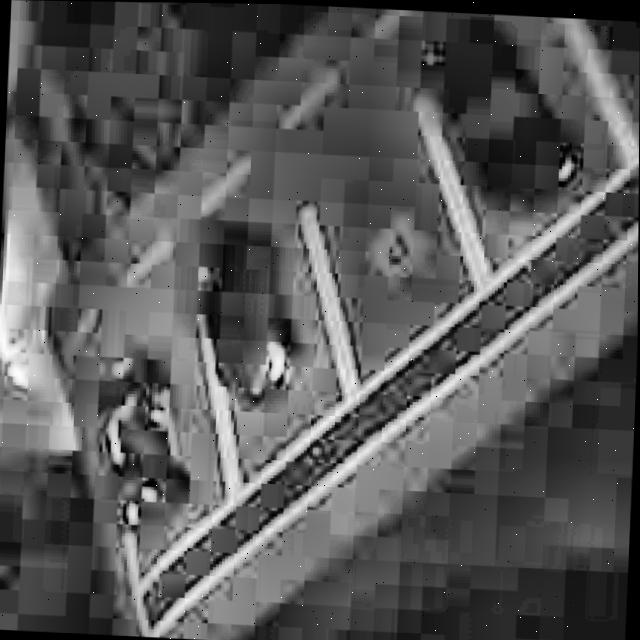car: (406, 8, 594, 227), (184, 207, 322, 412), (82, 344, 202, 542)
